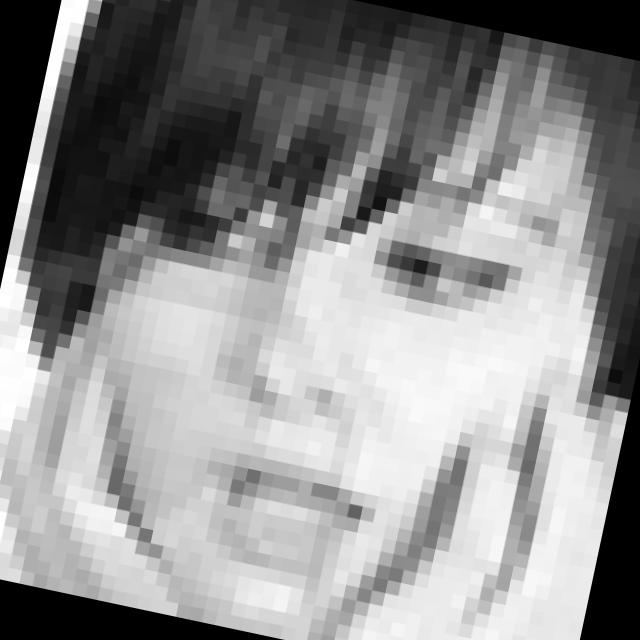fear: (79, 117, 564, 610)
